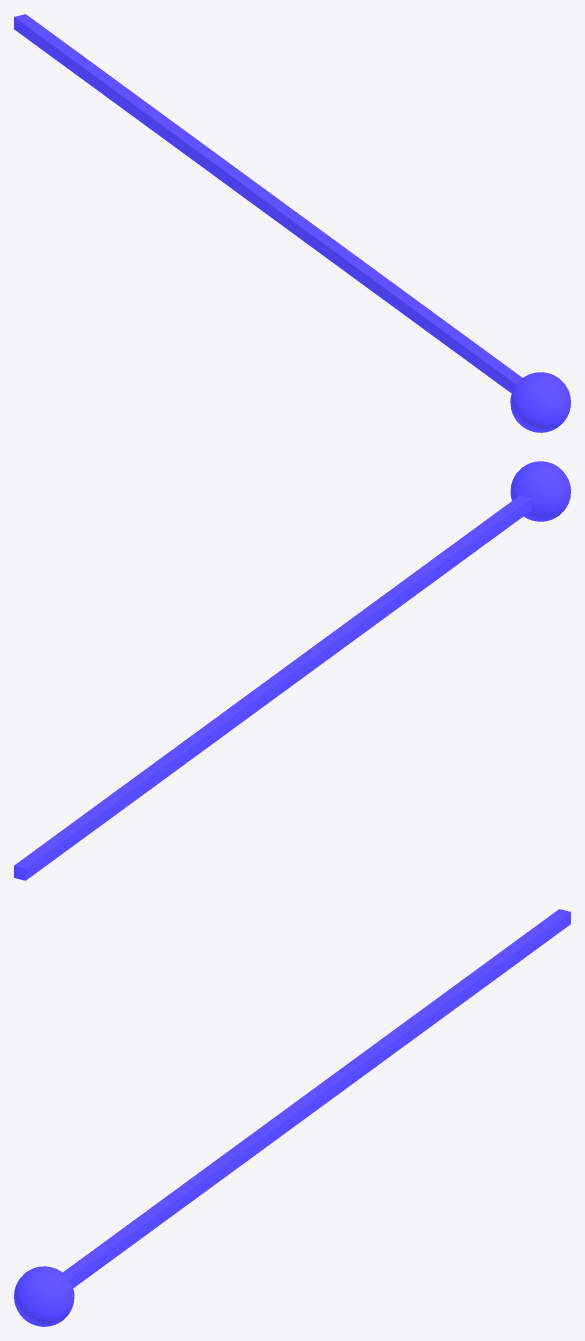
Rendered from SegnAzien.gltf.
3 views of the same model, one above another, from view 1: azimuth 30°, elevation 25°; view 2: azimuth 150°, elevation 25°; view 3: azimuth 330°, elevation 25° (orthographic).
Parts seen in each view (by area): view 1: ListnerModuli.006; view 2: ListnerModuli.006; view 3: ListnerModuli.006.
Part boxes in pixels (x1,y1,x2,y2): ListnerModuli.006: [14, 14, 570, 432]; ListnerModuli.006: [14, 461, 570, 880]; ListnerModuli.006: [14, 909, 570, 1326].
Bounding box in the file's own units: 0.0421 × 0.0421 × 0.7426.
